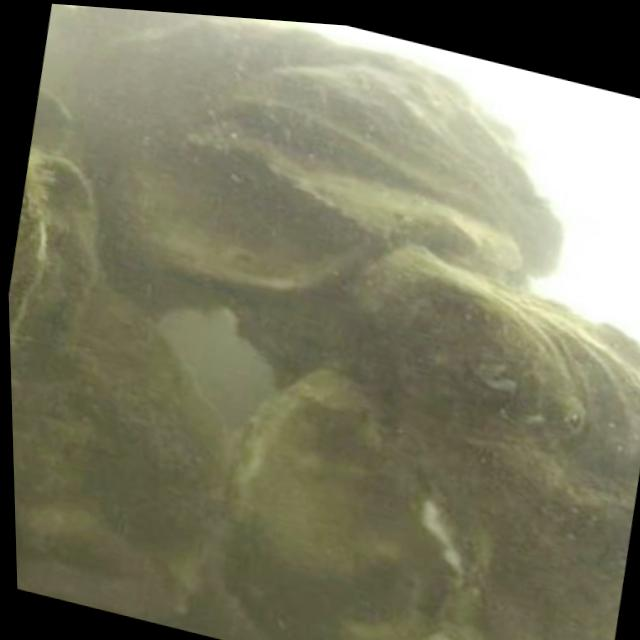Oyster-Indeterminate: (70, 23, 514, 182), (236, 62, 562, 275), (363, 250, 640, 491), (224, 368, 458, 640)
